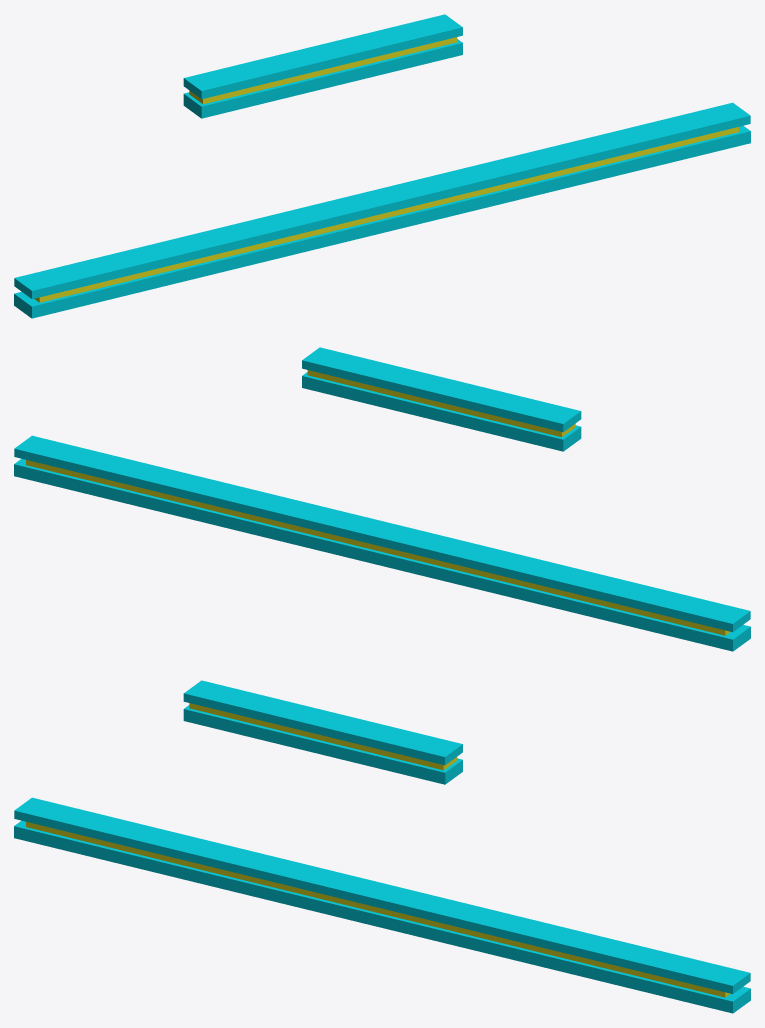
Rendered from BARRAS_PARED.fbx.
3 renders of one model, top to bottom at view 1: azimuth 30°, elevation 25°; view 2: azimuth 150°, elevation 25°; view 3: azimuth 330°, elevation 25°, orthographic.
Parts seen in each view (by area): view 1: Puerta_Arco.005, Puerta_Arco.006; view 2: Puerta_Arco.005, Puerta_Arco.006; view 3: Puerta_Arco.005, Puerta_Arco.006.
Part boxes in pixels (x1,y1,x2,y2): Puerta_Arco.005: [14, 102, 750, 318]; Puerta_Arco.006: [183, 14, 462, 118]; Puerta_Arco.005: [14, 435, 750, 651]; Puerta_Arco.006: [302, 347, 581, 451]; Puerta_Arco.005: [14, 797, 750, 1013]; Puerta_Arco.006: [183, 680, 462, 784].
Size of the model in its own units: 2200 by 544 by 94.81.
